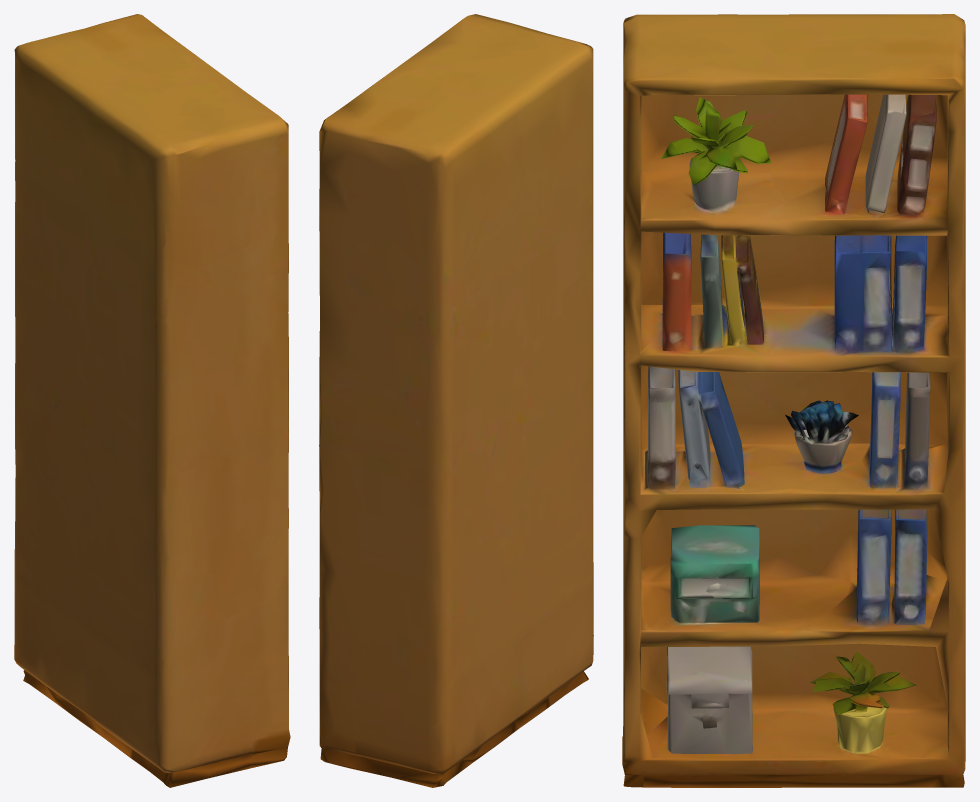
The model's file is bookshelf.glb.
3 renders of one model, left to right at view 1: azimuth 30°, elevation 25°; view 2: azimuth 150°, elevation 25°; view 3: azimuth 270°, elevation 25°, orthographic. The views are drawn at different scales.
Visible parts, largest first — view 1: tripo_node_43bdbe9a-e26e-49dc-af14-6d21e30f9280; view 2: tripo_node_43bdbe9a-e26e-49dc-af14-6d21e30f9280; view 3: tripo_node_43bdbe9a-e26e-49dc-af14-6d21e30f9280.
Part boxes in pixels (x1=…): tripo_node_43bdbe9a-e26e-49dc-af14-6d21e30f9280: x1=14, y1=14, x2=290, y2=787; tripo_node_43bdbe9a-e26e-49dc-af14-6d21e30f9280: x1=319, y1=14, x2=593, y2=787; tripo_node_43bdbe9a-e26e-49dc-af14-6d21e30f9280: x1=622, y1=14, x2=965, y2=787.
Bounding box in the file's own units: 0.2256 × 1 × 0.4368.
Materials: 1 (1 with a texture image).
